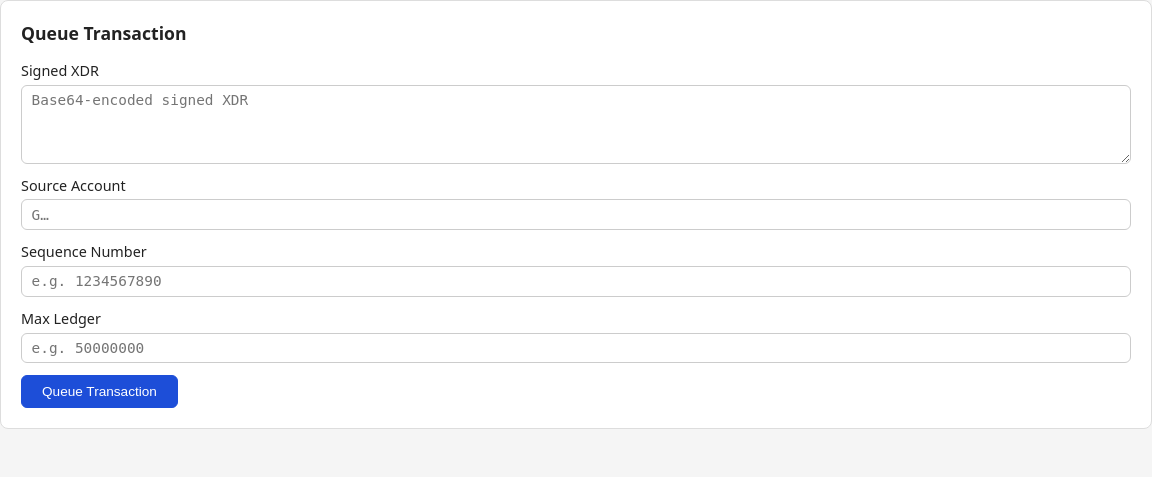
Test: TransactionForm › shows error for duplicate transaction
The width and height of the screenshot is (1152, 477).
Type "AAAAAQAAAA==" into the text box with placeholder "Base64-encoded signed XDR".
click(576, 124); type("AAAAAQAAAA==")  # box [21,85,1131,164]
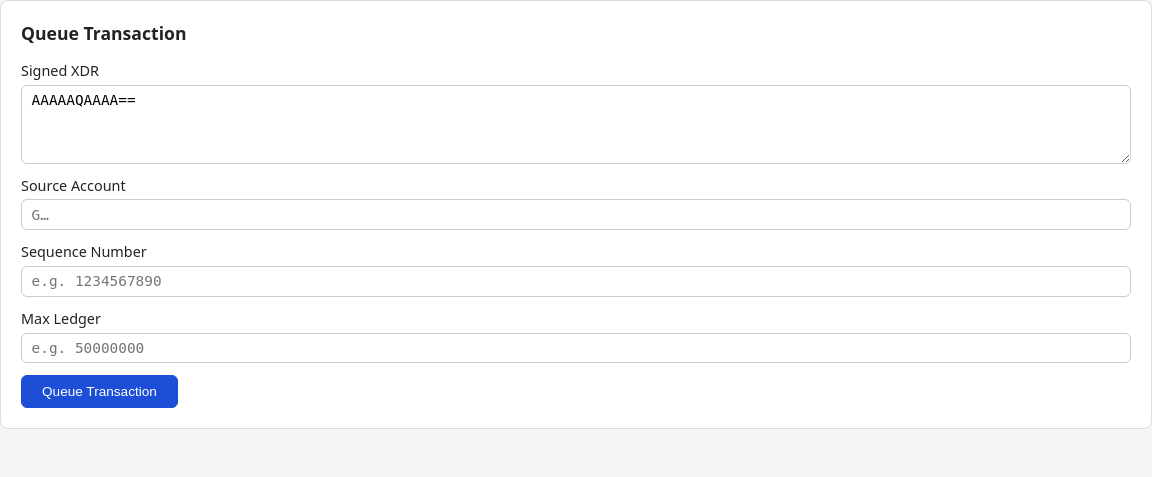
Type "GABC" into the field with placeholder "G…".
click(576, 215); type("GABC")  # box [21,199,1131,230]
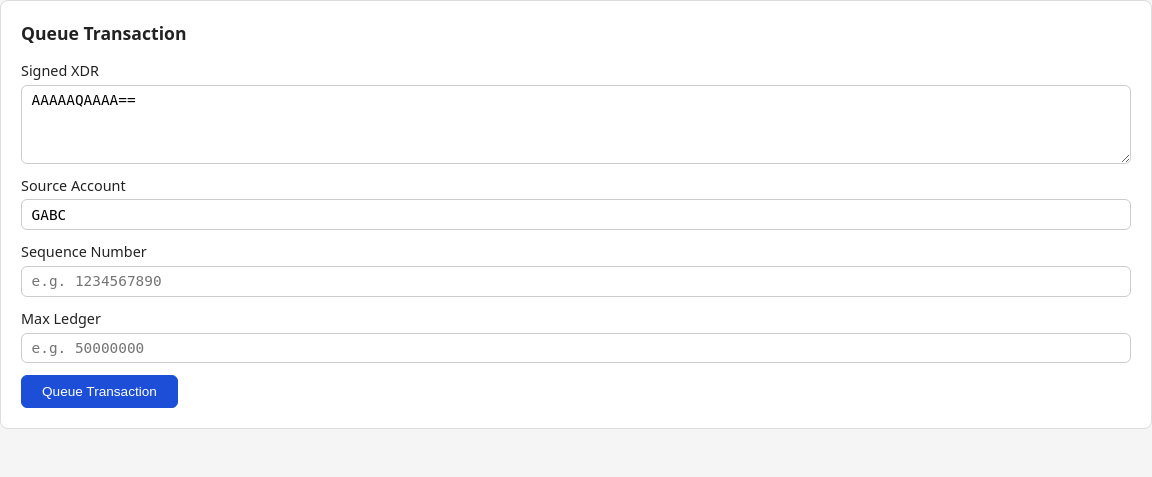
Type "100" into the field with placeholder "e.g. 1234567890".
click(576, 281); type("100")  # box [21,266,1131,297]
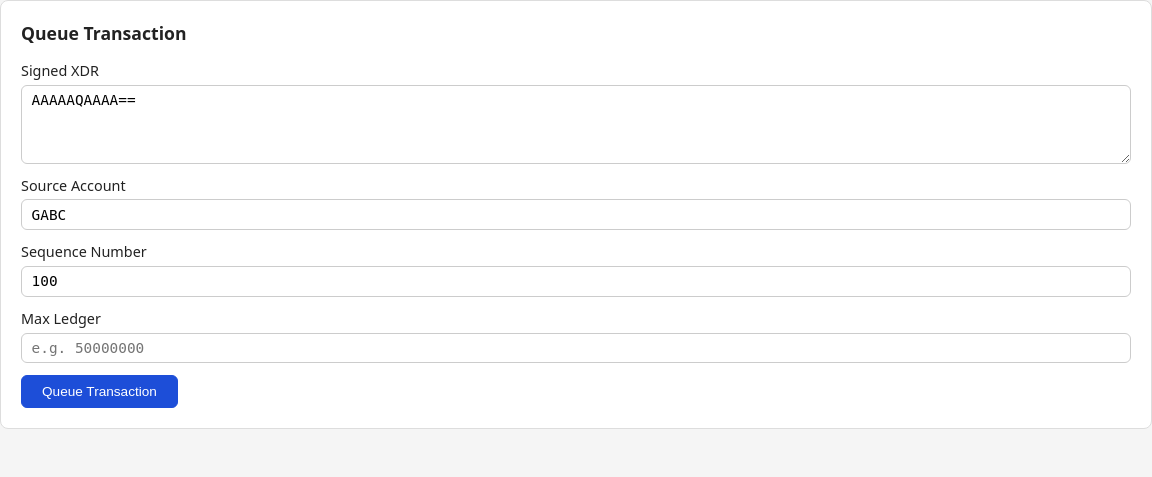
Type "99999999" into the number field with placeholder "e.g. 50000000".
click(576, 348); type("99999999")  # box [21,332,1131,363]
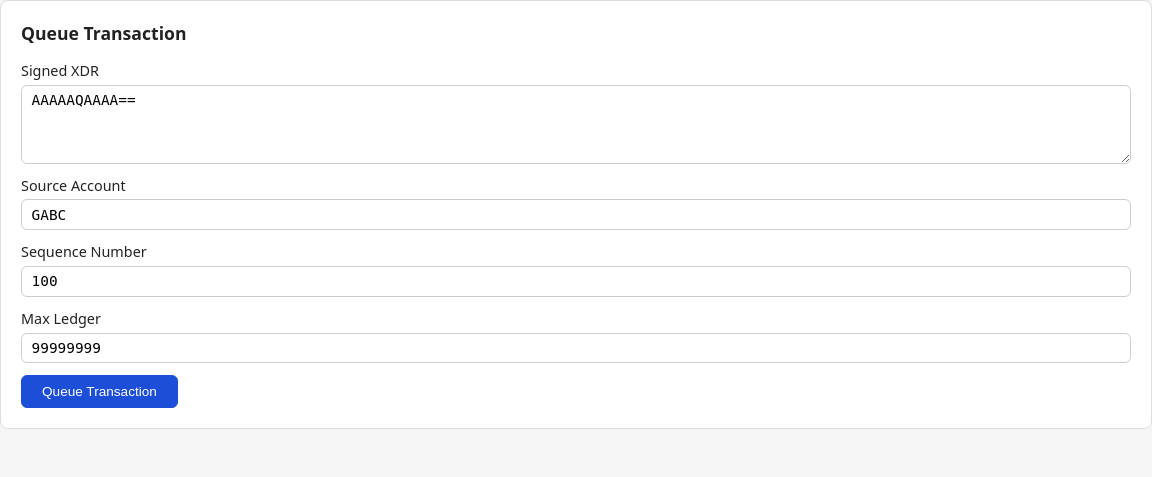
Click the button "Queue Transaction".
click(99, 392)  # box [21,375,178,408]
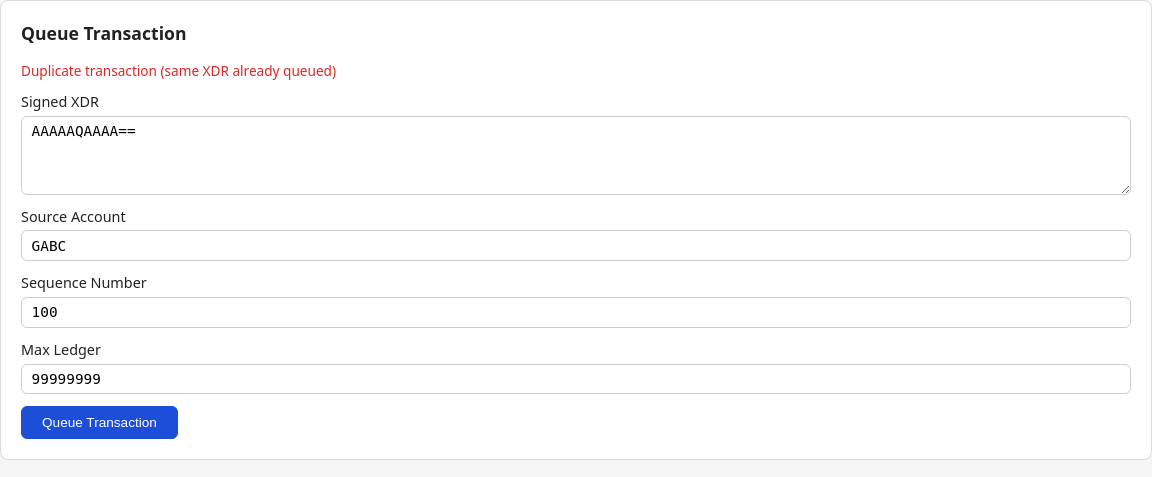
Expected: the text "Duplicate transaction (same XDR already queued)" is shown, [21,61,336,80]
